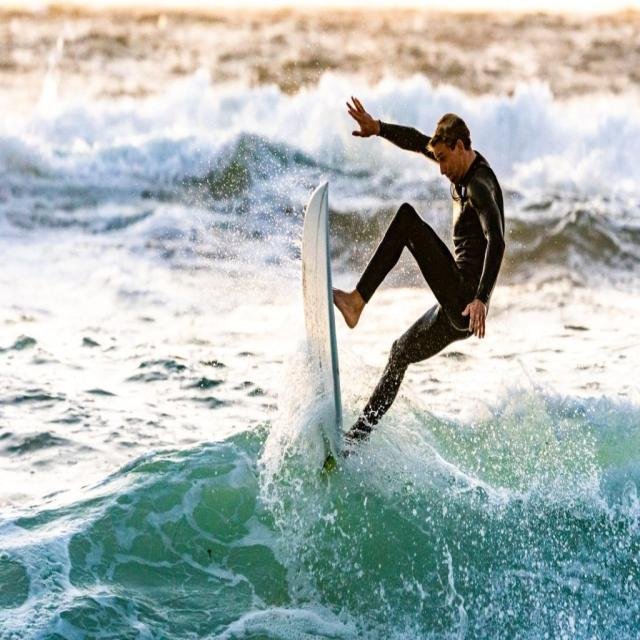stand: (323, 106, 518, 444)
